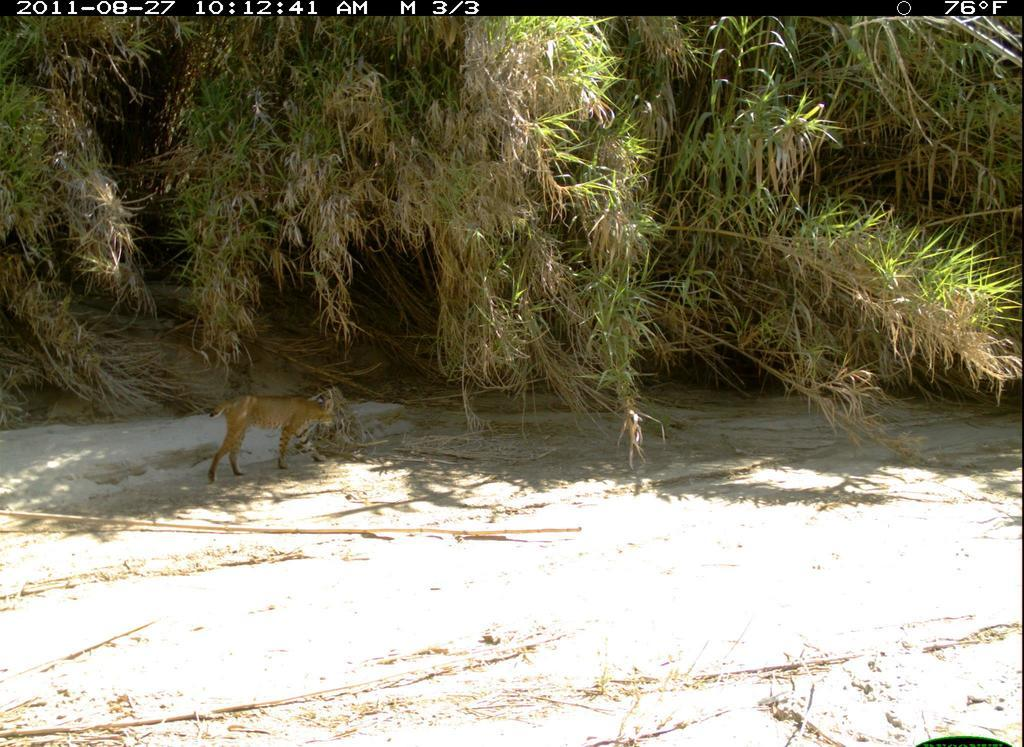bobcat: (198, 386, 346, 481)
